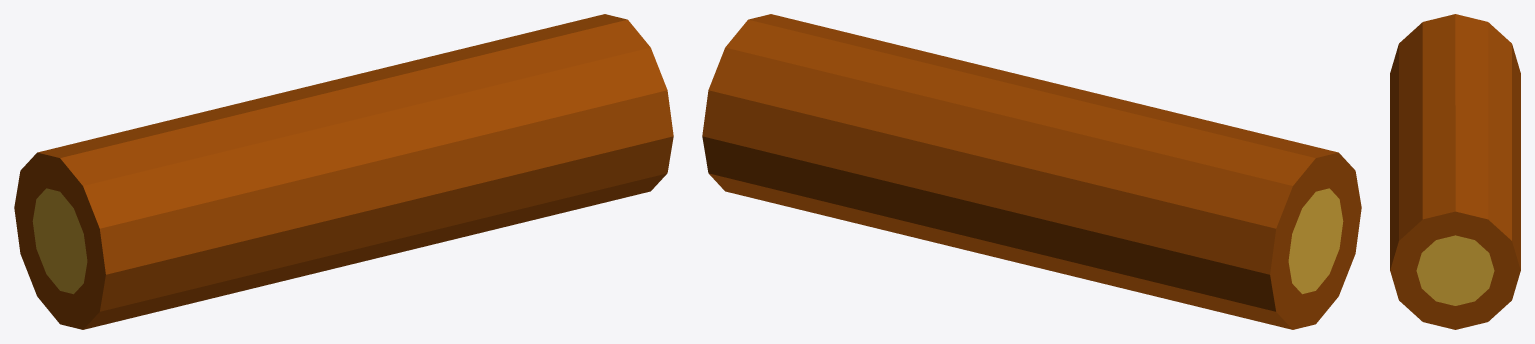
File: Log.fbx
3 views of the same model, side by side, from view 1: azimuth 30°, elevation 25°; view 2: azimuth 150°, elevation 25°; view 3: azimuth 270°, elevation 25° (orthographic). The views are drawn at different scales.
Parts seen in each view (by area): view 1: Log; view 2: Log; view 3: Log.
Part boxes in pixels (bbox=[...]): Log: bbox=[14, 14, 673, 329]; Log: bbox=[702, 14, 1361, 329]; Log: bbox=[1390, 14, 1520, 329].
Size of the model in its own units: 232 by 64.8 by 64.8.
